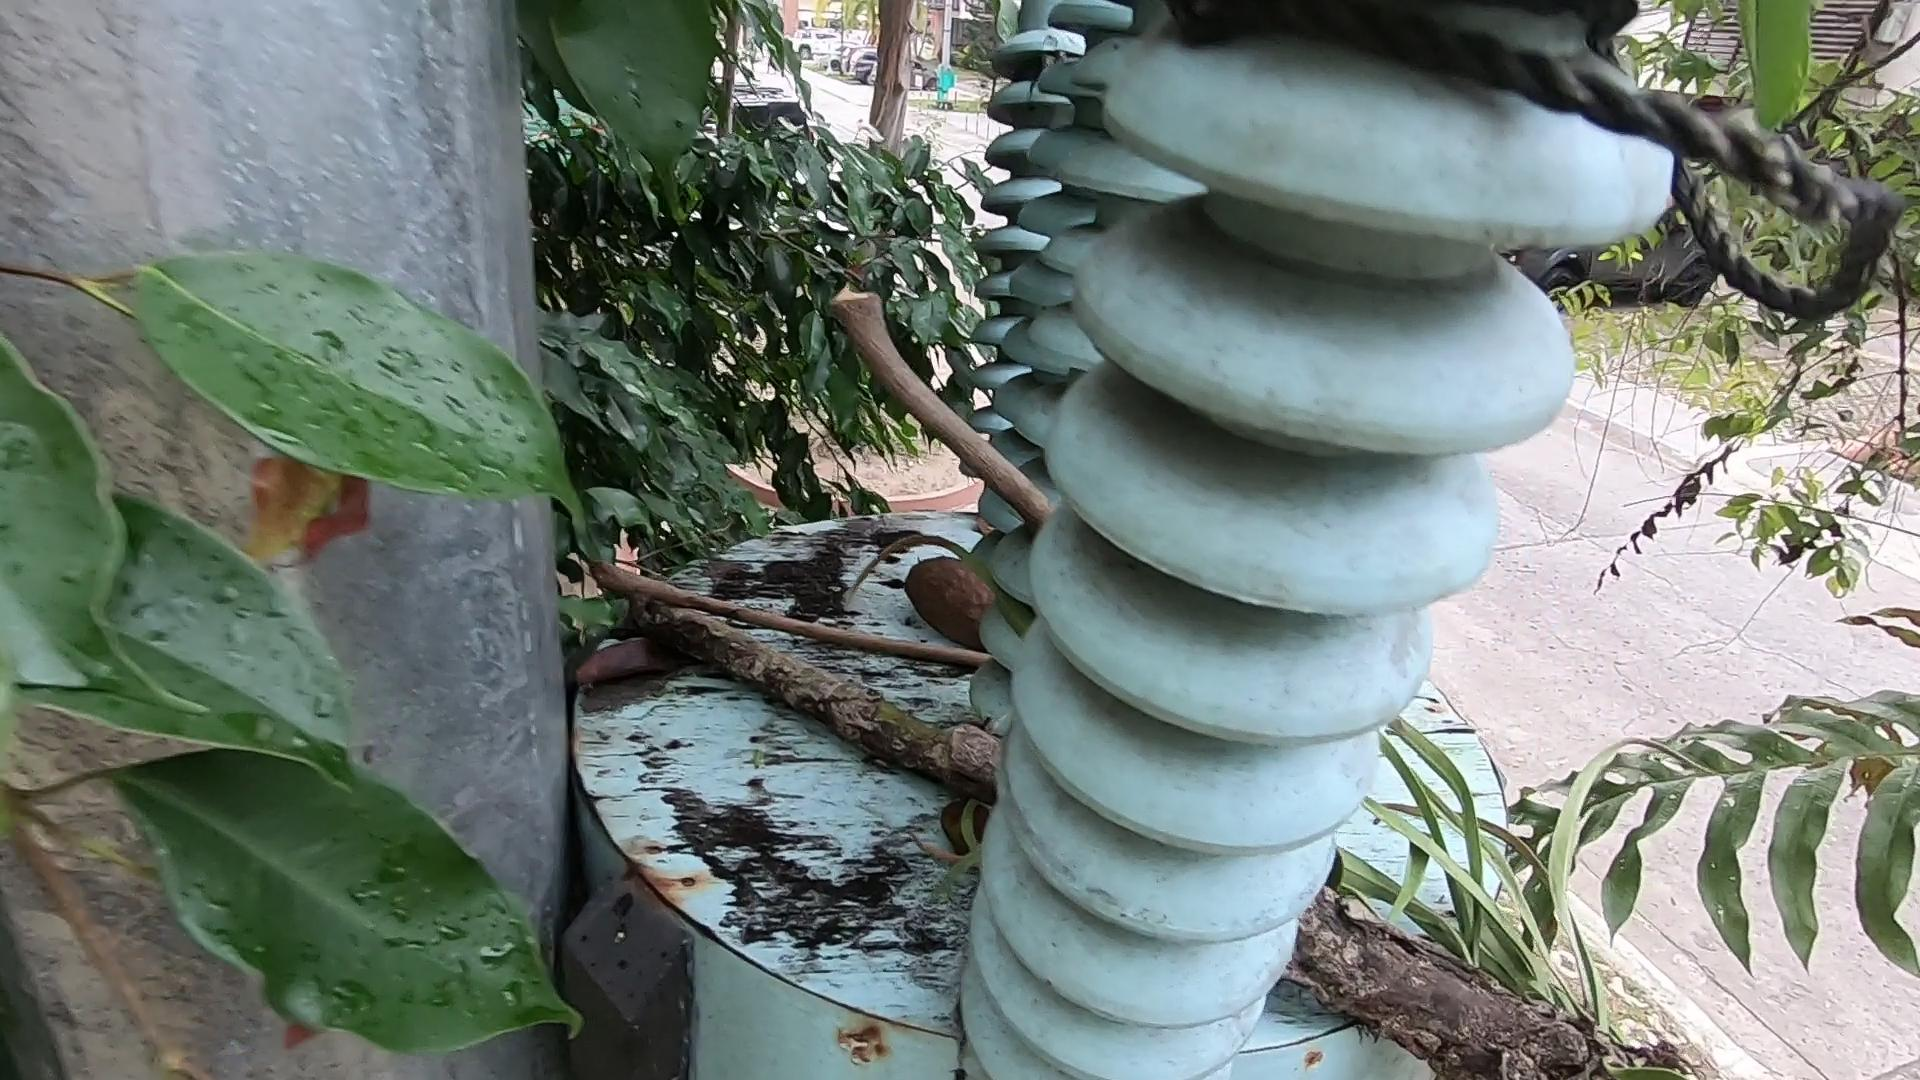branch with leaves: (713, 626, 1665, 1080)
leaf: (554, 632, 729, 771), (949, 796, 997, 881)
mahogany fruit: (849, 429, 1098, 757)
tree branch: (837, 287, 1044, 520), (597, 572, 994, 665)
